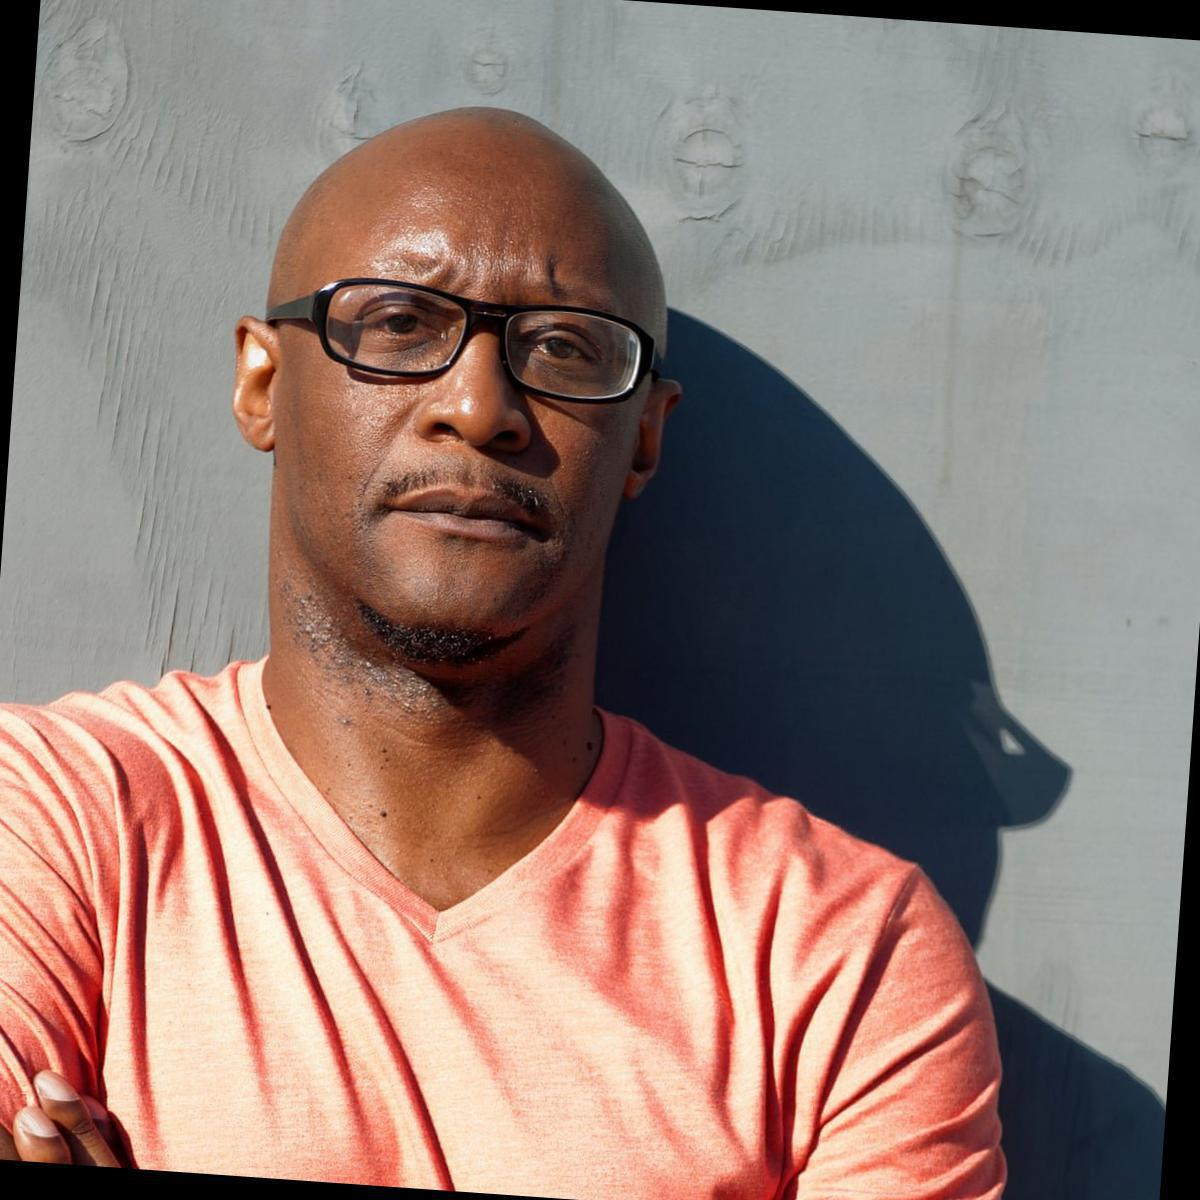Sober: (284, 141, 635, 607)
